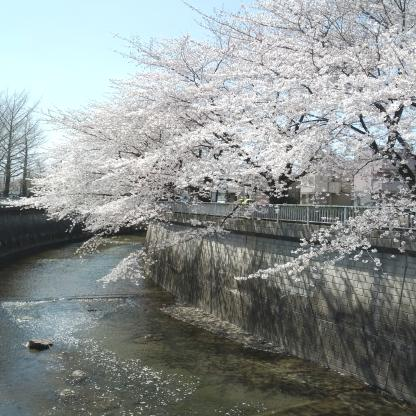Someiyoshino: (32, 2, 415, 272)
